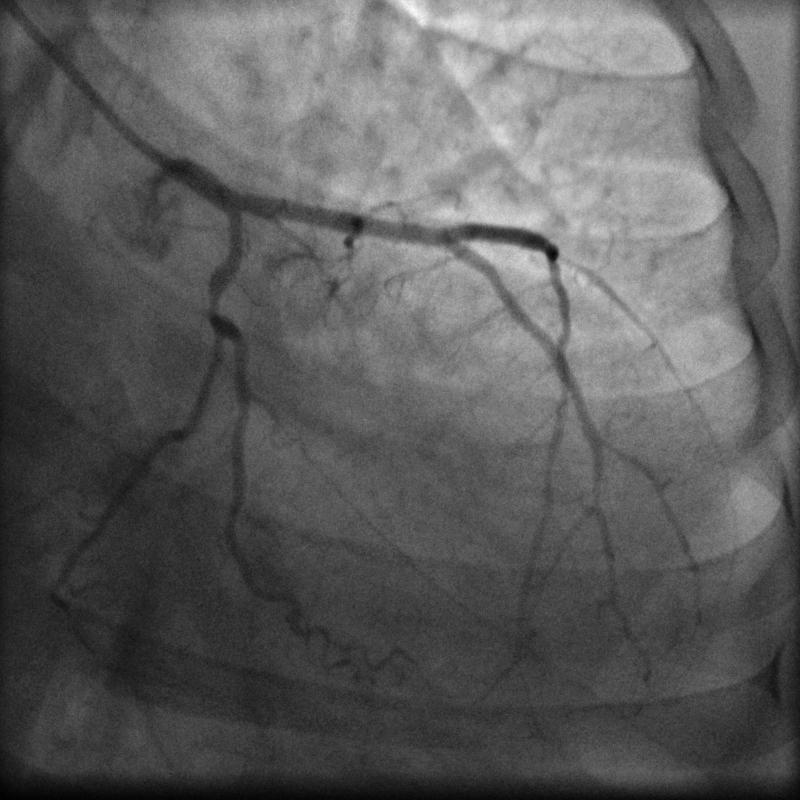Stenosis: (197, 278, 229, 316)
